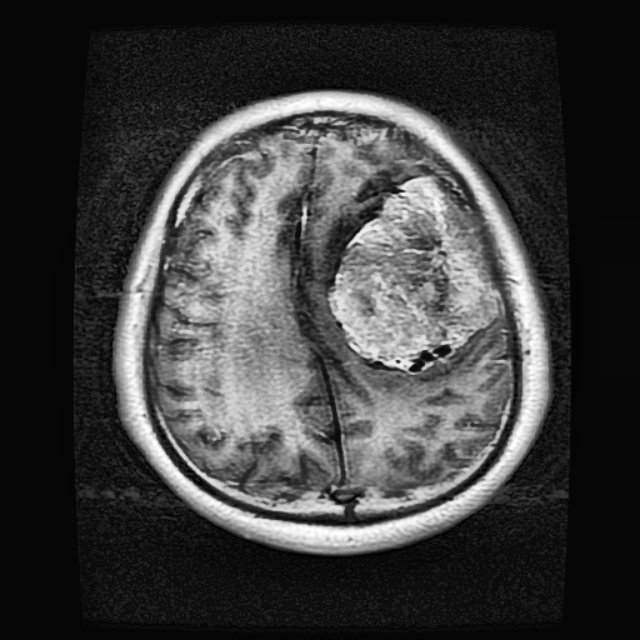Pituitary: (330, 175, 500, 369)
